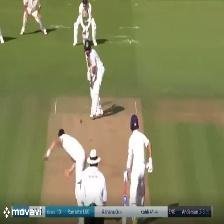ball: (79, 116, 84, 125)
batsman: (82, 38, 109, 119)
